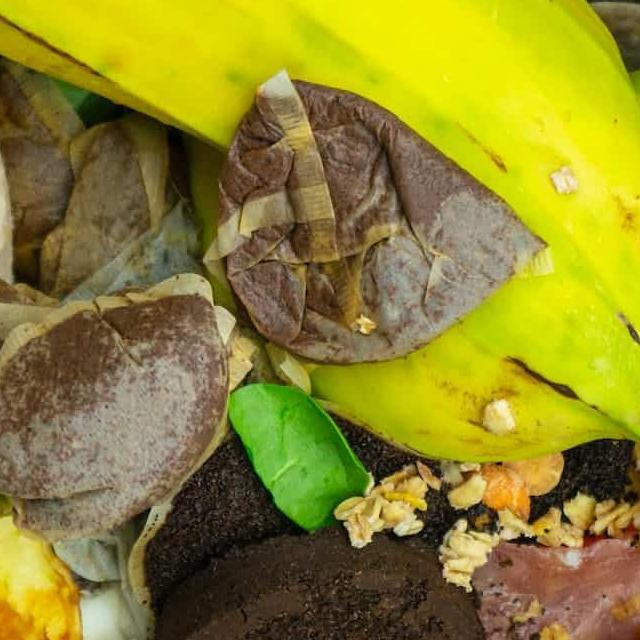food_waste: (0, 0, 640, 511), (0, 0, 640, 481), (174, 82, 564, 366), (0, 275, 228, 525), (0, 43, 80, 640), (127, 525, 488, 640), (447, 478, 640, 640), (0, 515, 198, 640)
